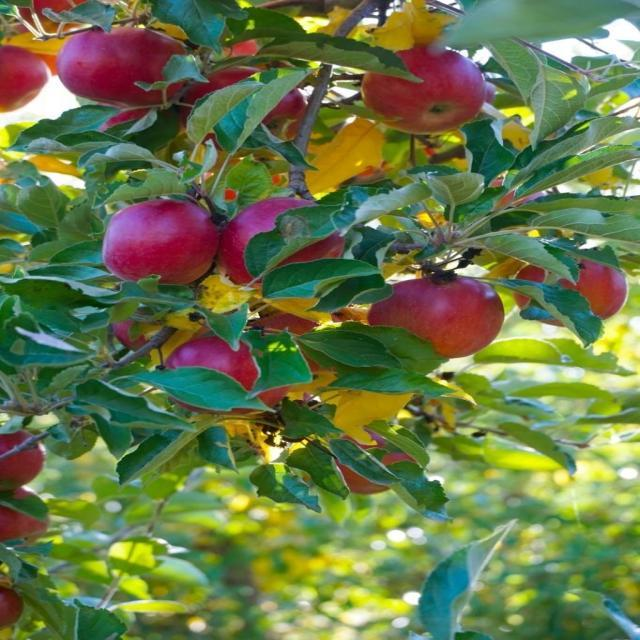Red Apple: (370, 48, 483, 128), (392, 271, 507, 349), (228, 198, 336, 278), (75, 28, 191, 101), (109, 199, 217, 277), (172, 336, 287, 406), (533, 254, 635, 327), (203, 66, 300, 142), (341, 430, 409, 491), (265, 311, 326, 368), (104, 107, 190, 146), (1, 489, 48, 557), (1, 429, 48, 481), (491, 176, 544, 219), (1, 45, 41, 101), (215, 41, 262, 84), (34, 1, 87, 35), (118, 315, 156, 357), (1, 573, 23, 633)
